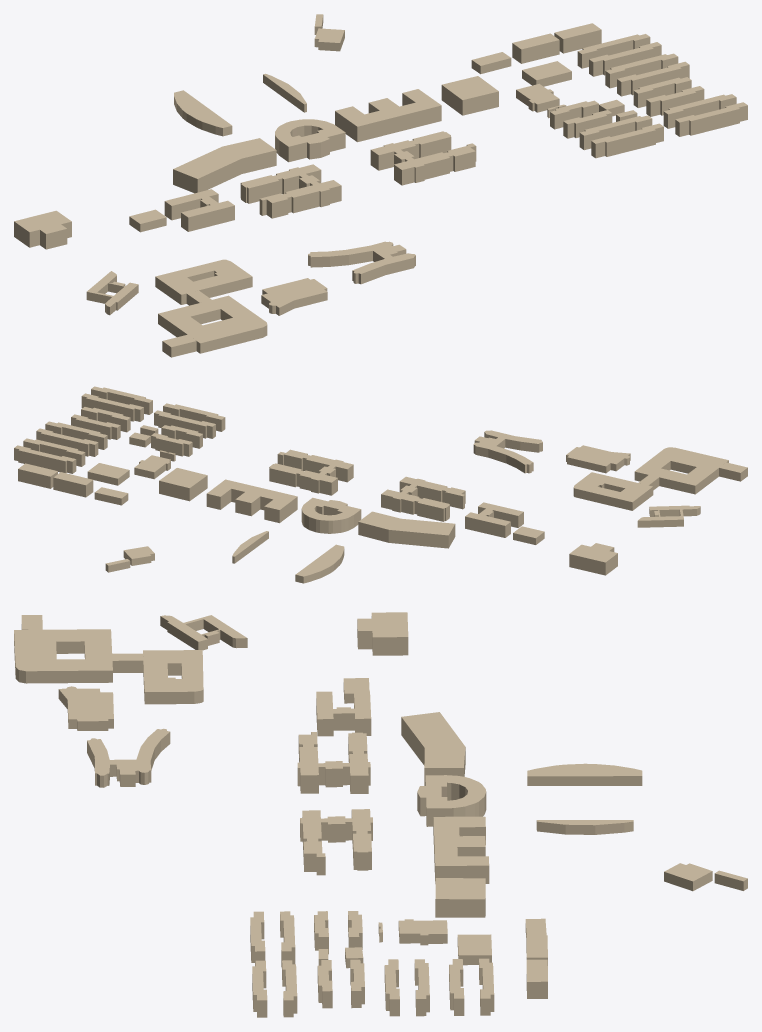
File: -10_5-estimated-coarse.glb
3 views of the same model, one above another, from view 1: azimuth 30°, elevation 25°; view 2: azimuth 150°, elevation 25°; view 3: azimuth 270°, elevation 25° (orthographic). The views are drawn at different scales.
Size of the model in its own units: 1032 by 22.5 by 815.
